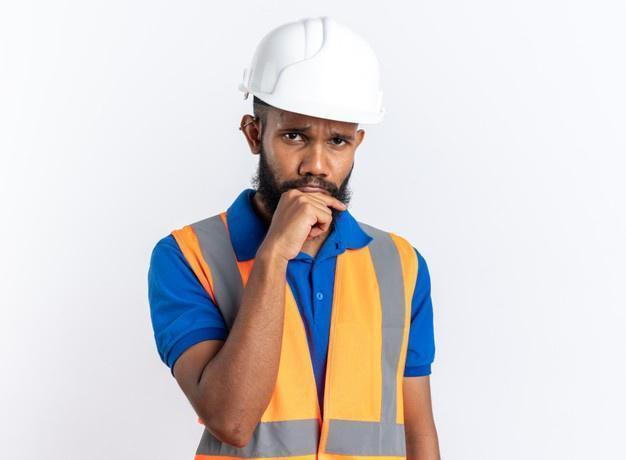helmet: (239, 17, 385, 125)
